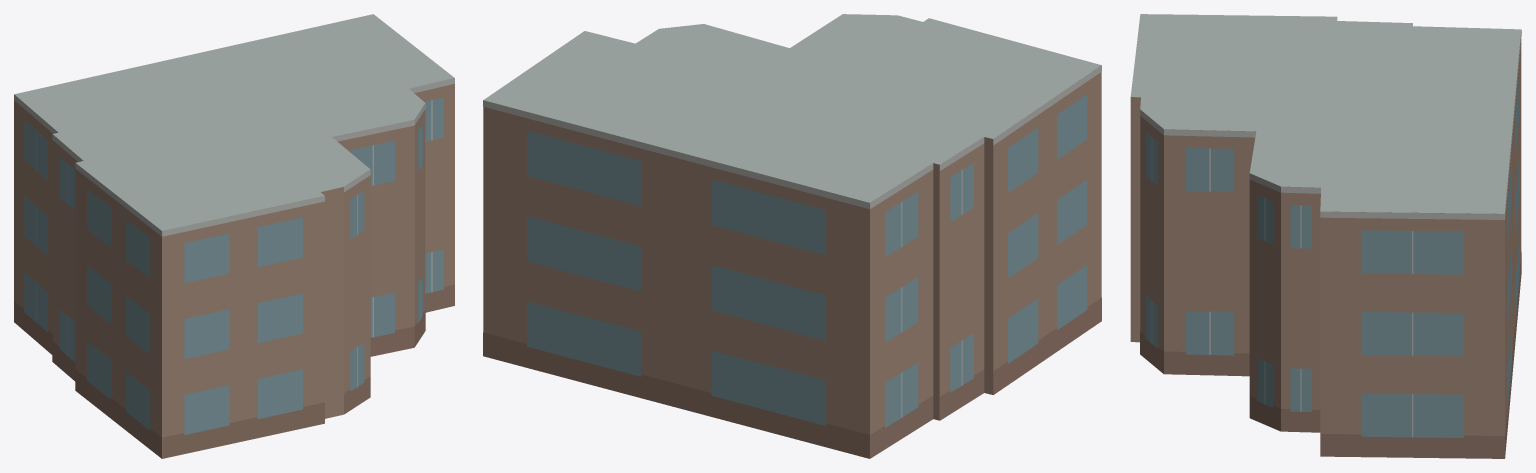
The model's file is survey-upis-32985507.glb.
3 renders of one model, left to right at view 1: azimuth 30°, elevation 25°; view 2: azimuth 150°, elevation 25°; view 3: azimuth 270°, elevation 25°, orthographic. The views are drawn at different scales.
Parts seen in each view (by area): view 1: survey-upis-32985507.tmp; view 2: survey-upis-32985507.tmp; view 3: survey-upis-32985507.tmp.
Boxes of the visible parts, x1,y1,x2,y2 form: survey-upis-32985507.tmp: (14,14,454,458); survey-upis-32985507.tmp: (483,14,1101,458); survey-upis-32985507.tmp: (1130,14,1521,458).
Bounding box in the file's own units: 16.98 × 9.7 × 14.03.
